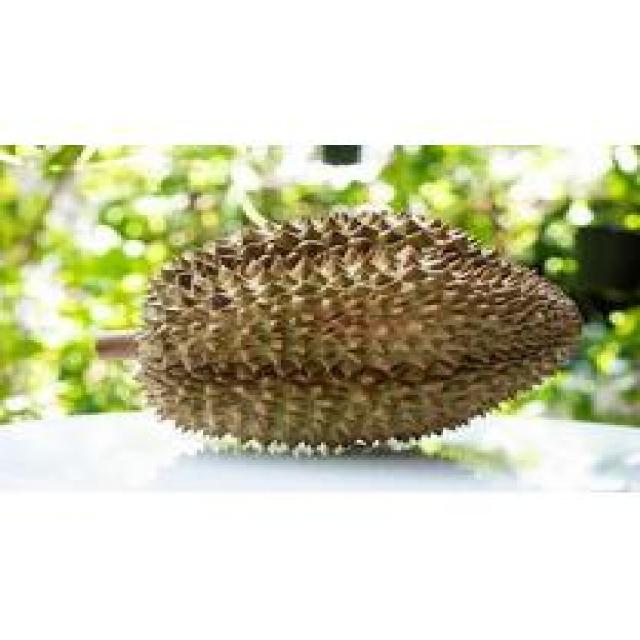fruit: (104, 182, 458, 500)
